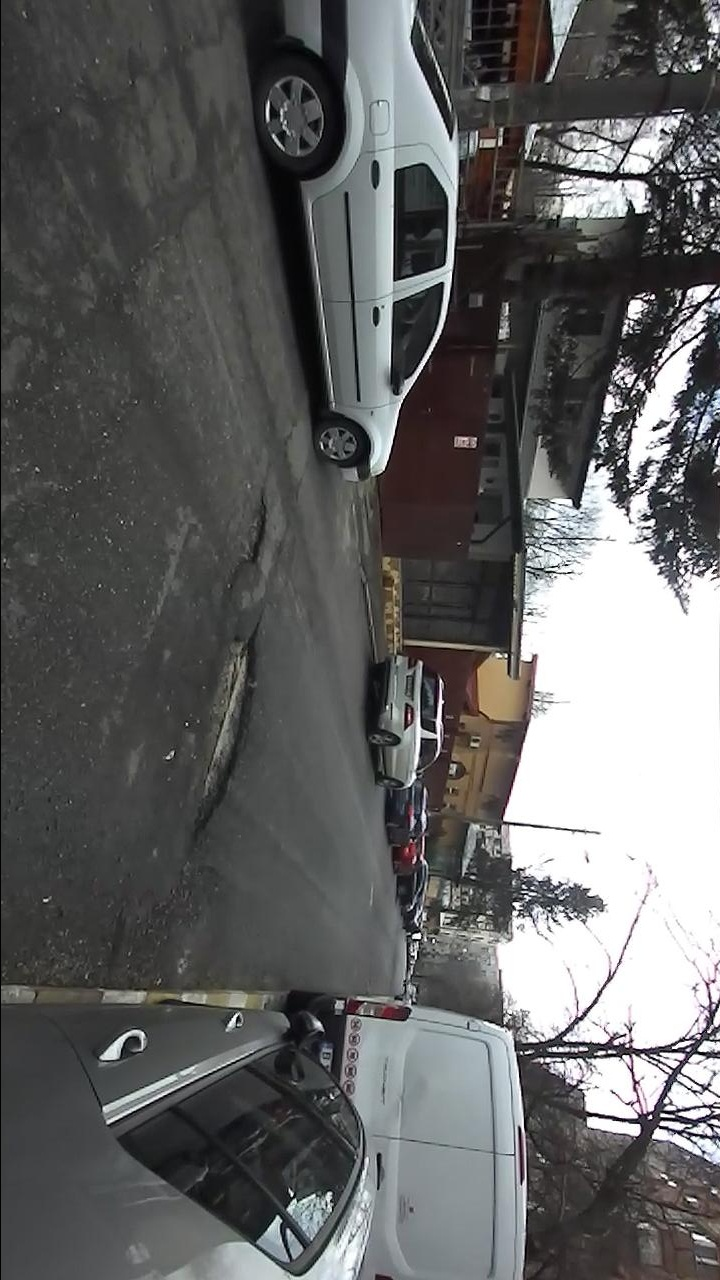pothole: (187, 626, 261, 843), (227, 485, 270, 582)
